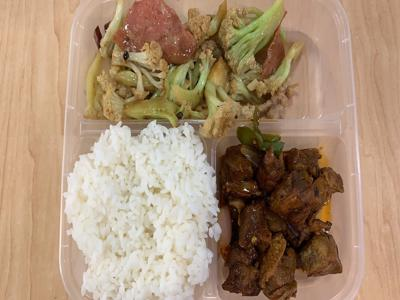cch: (78, 3, 315, 130)
rice: (67, 120, 217, 300)
yr: (214, 128, 353, 300)
